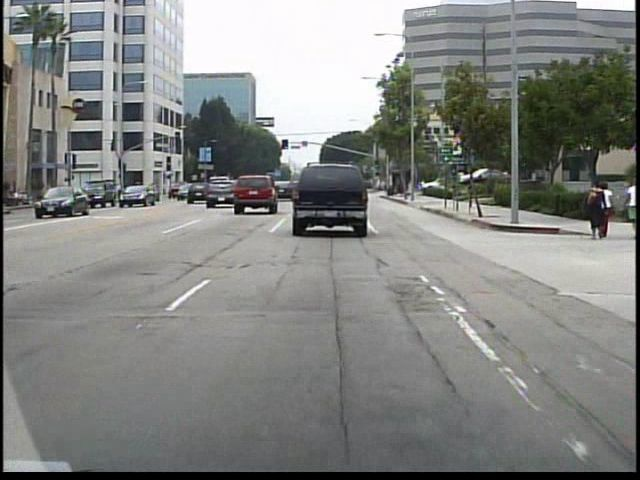person: (585, 177, 604, 241), (620, 172, 639, 236), (601, 181, 614, 238)
